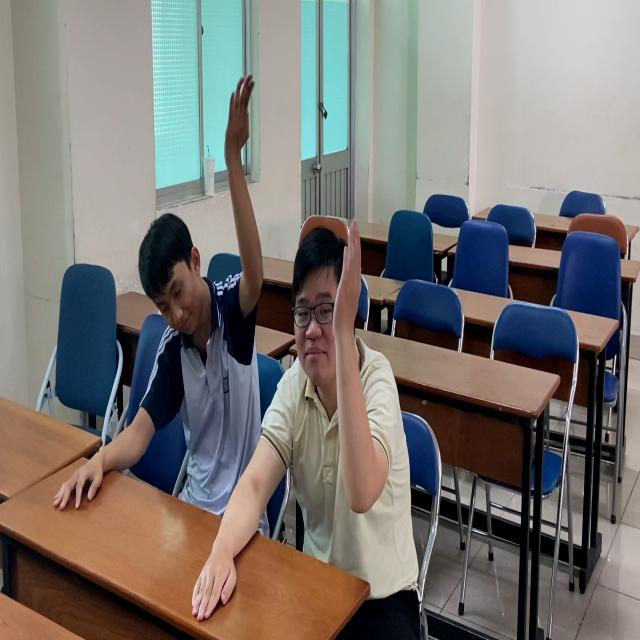raise_hand: (132, 57, 267, 546), (280, 211, 397, 562)
